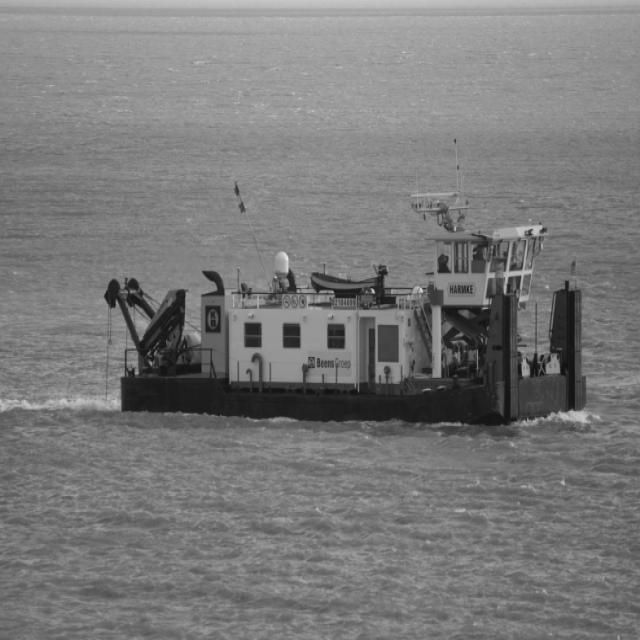tugboat: (102, 188, 596, 449)
